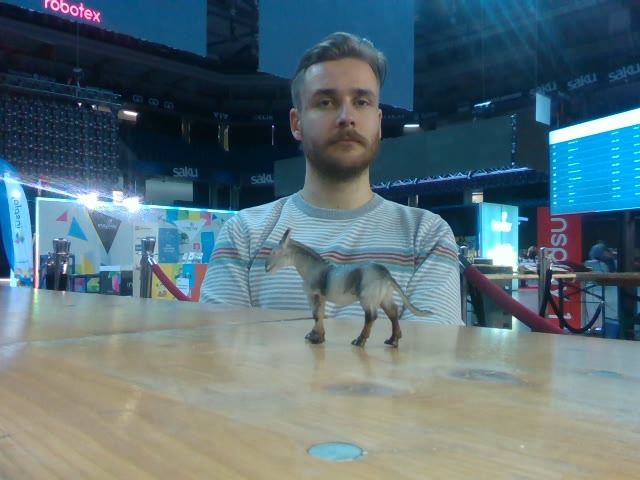toy: (262, 228, 435, 350)
